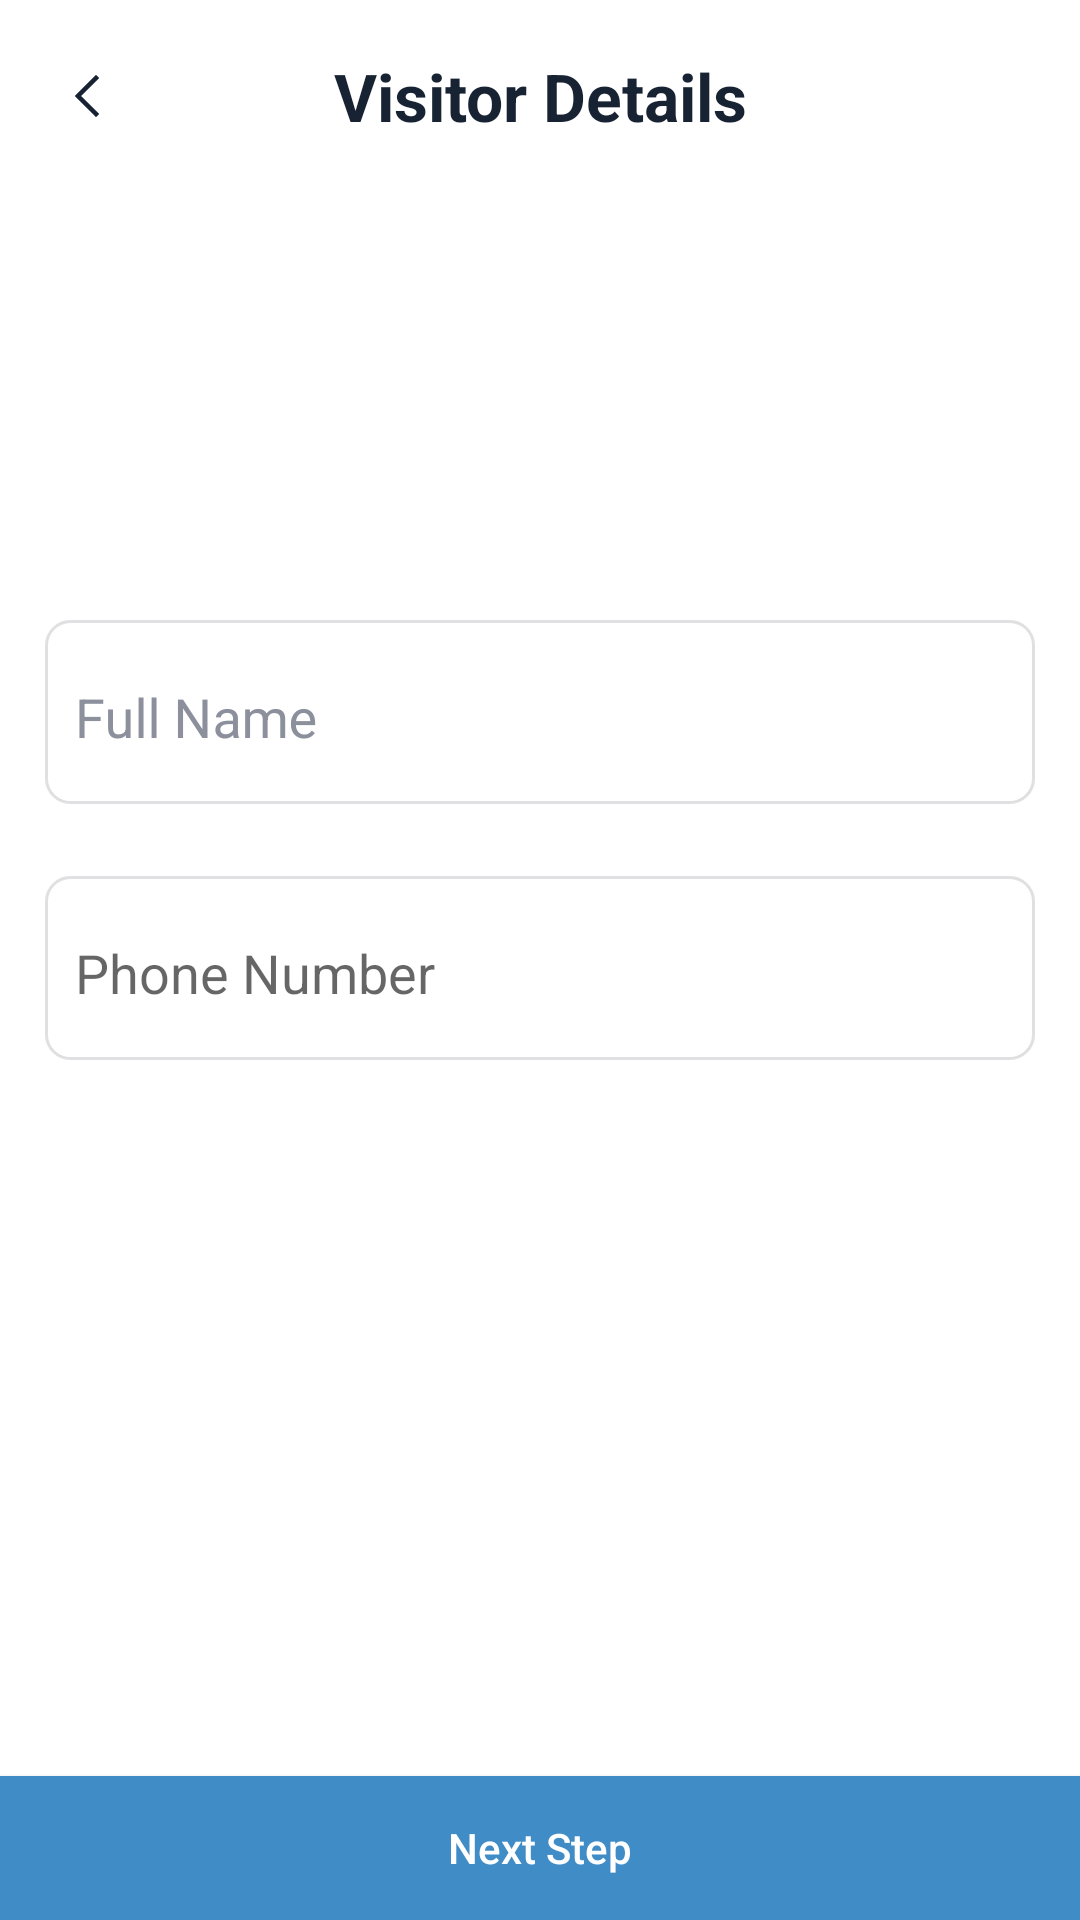

Screen size 1080px x 1920px. Icon name, then its center in pixels as (x=x, y=y):
back: (x=87, y=96)
